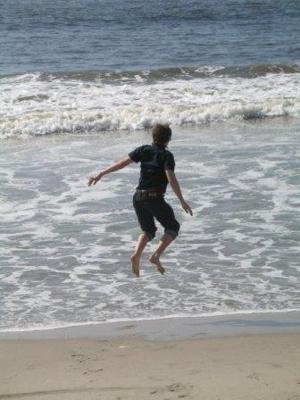person: (90, 126, 195, 283)
